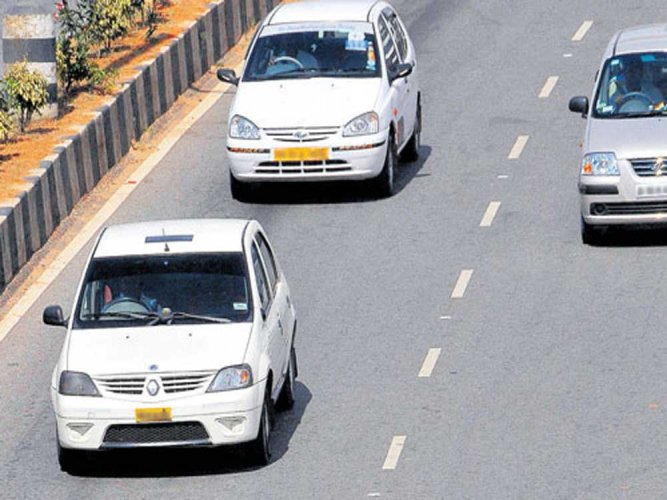car: (54, 211, 285, 463), (222, 8, 425, 196), (578, 25, 667, 235)
